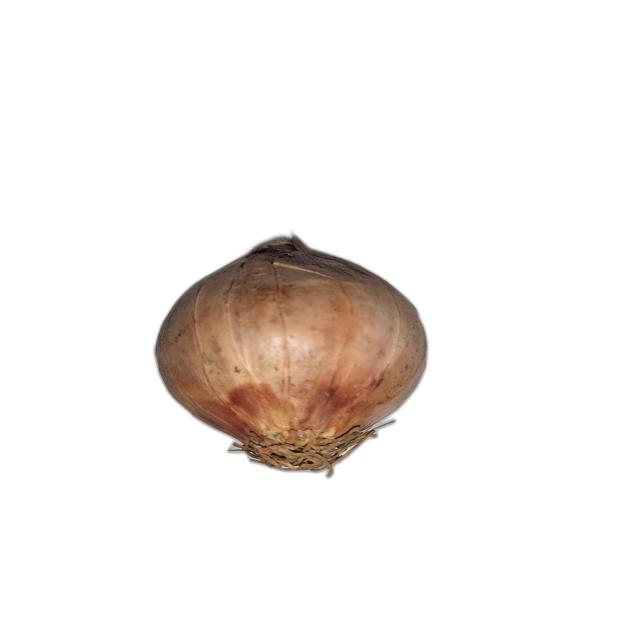onion: (155, 233, 429, 476)
